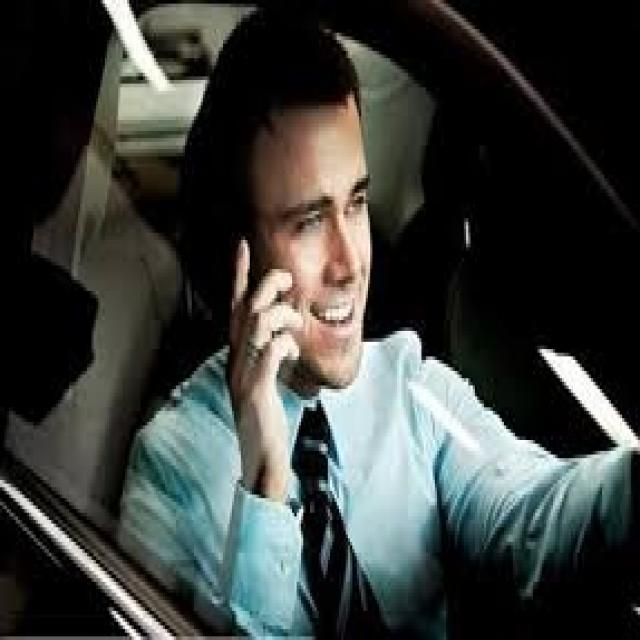phone: (208, 185, 332, 473)
